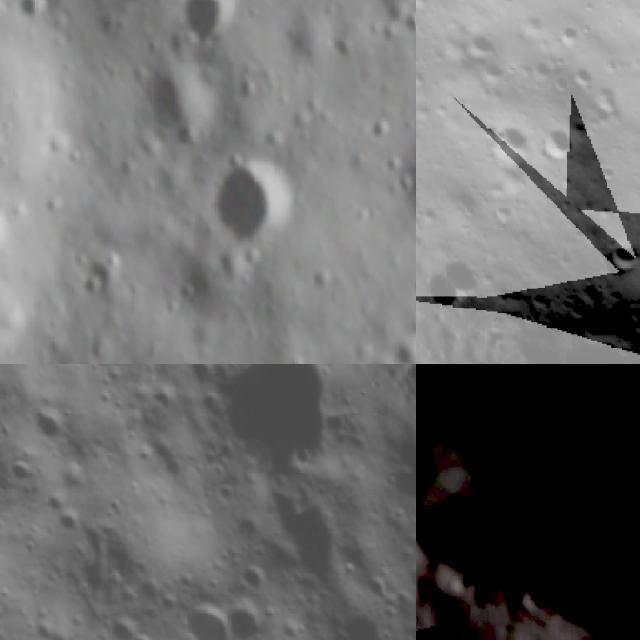crater: (194, 364, 371, 499), (212, 160, 306, 262), (136, 58, 218, 145), (476, 104, 545, 176), (169, 588, 246, 640), (22, 391, 82, 455), (434, 242, 491, 304), (591, 228, 640, 291), (217, 592, 280, 640), (453, 17, 508, 71), (531, 115, 585, 170), (175, 0, 230, 51), (0, 451, 46, 500), (234, 554, 278, 600), (90, 605, 142, 640), (50, 504, 90, 546), (35, 486, 74, 524), (623, 205, 640, 271), (14, 0, 49, 27), (127, 622, 165, 640), (416, 0, 440, 23)
